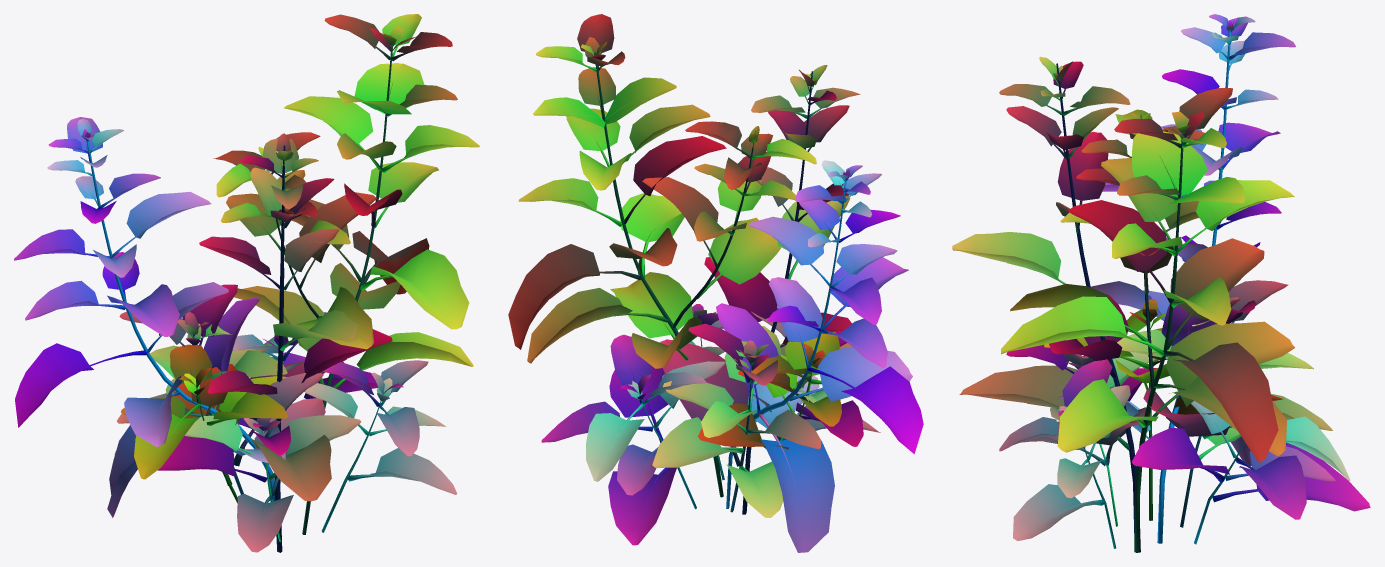
File: Lemon_Balm_umslacdia_Mid_umslacdia_VarA_LOD1.fbx
The picture shows the model from 3 angles, left to right: view 1: azimuth 30°, elevation 25°; view 2: azimuth 150°, elevation 25°; view 3: azimuth 270°, elevation 25°; orthographic projection. The views are drawn at different scales.
Parts seen in each view (by area): view 1: _g4xa_VarA_LOD3; view 2: _g4xa_VarA_LOD3; view 3: _g4xa_VarA_LOD3.
Boxes of the visible parts, x1,y1,x2,y2 form: _g4xa_VarA_LOD3: [14, 14, 479, 552]; _g4xa_VarA_LOD3: [508, 14, 923, 552]; _g4xa_VarA_LOD3: [952, 14, 1370, 552].
Bounding box in the file's own units: 69.01 × 76.07 × 56.39.
